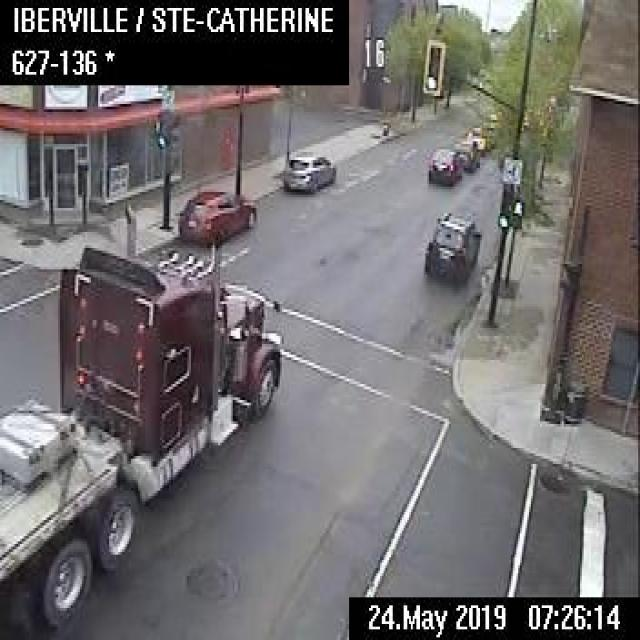vehicle: (0, 196, 284, 639), (422, 208, 481, 285), (178, 188, 256, 245), (282, 147, 334, 192), (426, 147, 462, 184), (452, 138, 479, 168), (464, 125, 489, 150)
